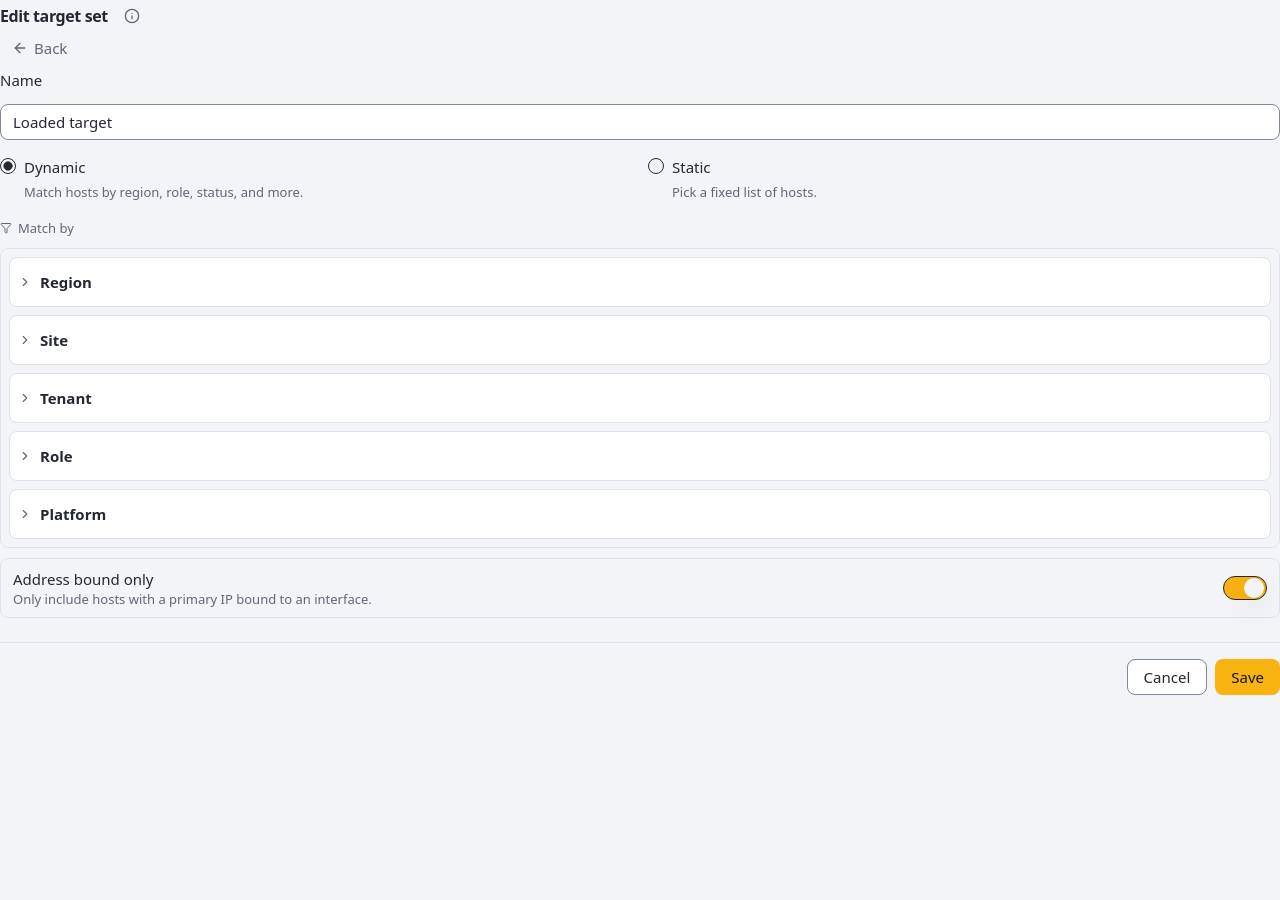
target route state shell › retains the loaded dirty draft and discard guard after a failed background refresh
Replace the text in the field with "Unsaved local draft" at [640, 122], box [0,104,1279,140]
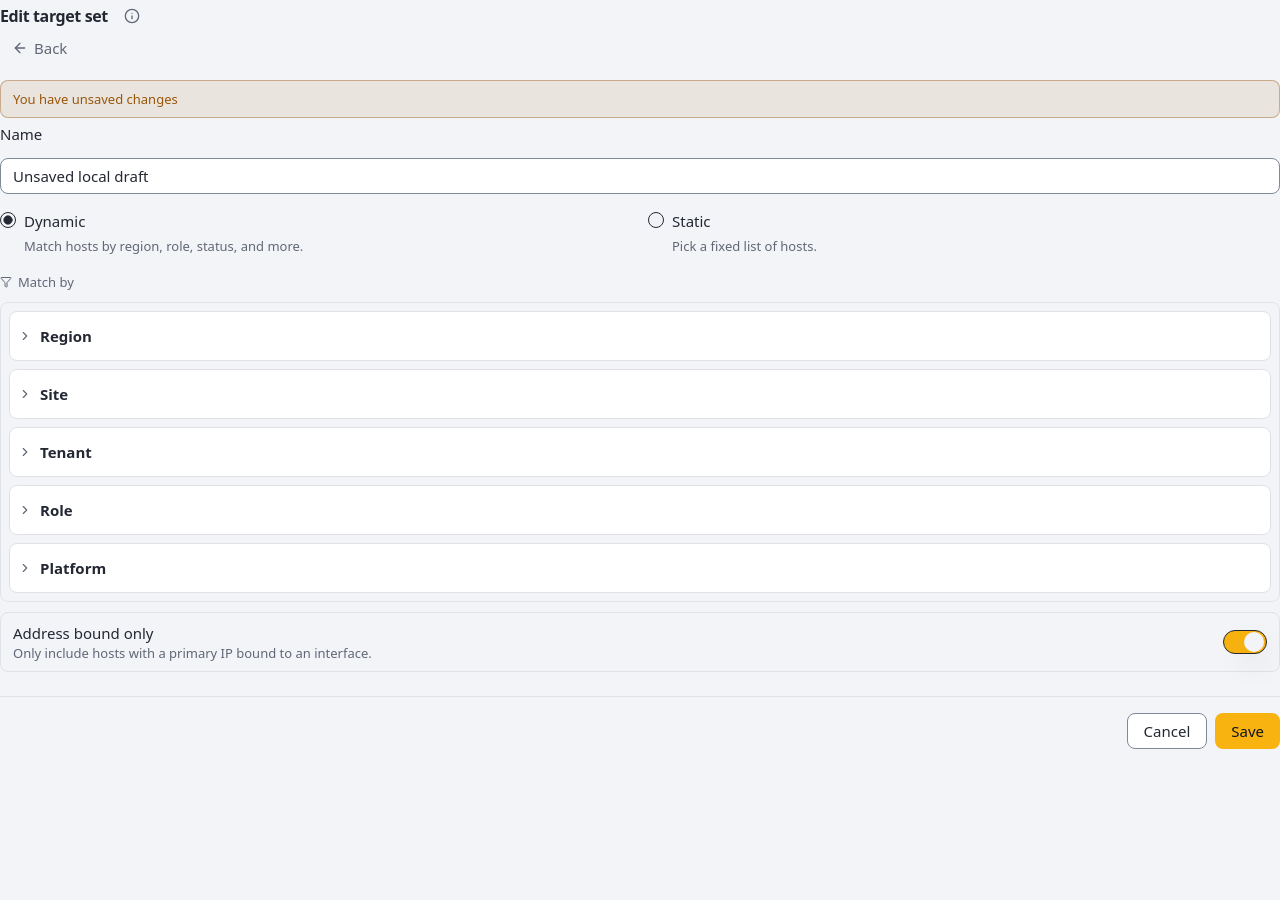
Expected: the number of headings is 1, [0,4,108,28]
Now the text "You have unsaved changes" is shown, box [0,80,1279,118]
Click the button "Back" at [40, 48], box [0,32,79,64]
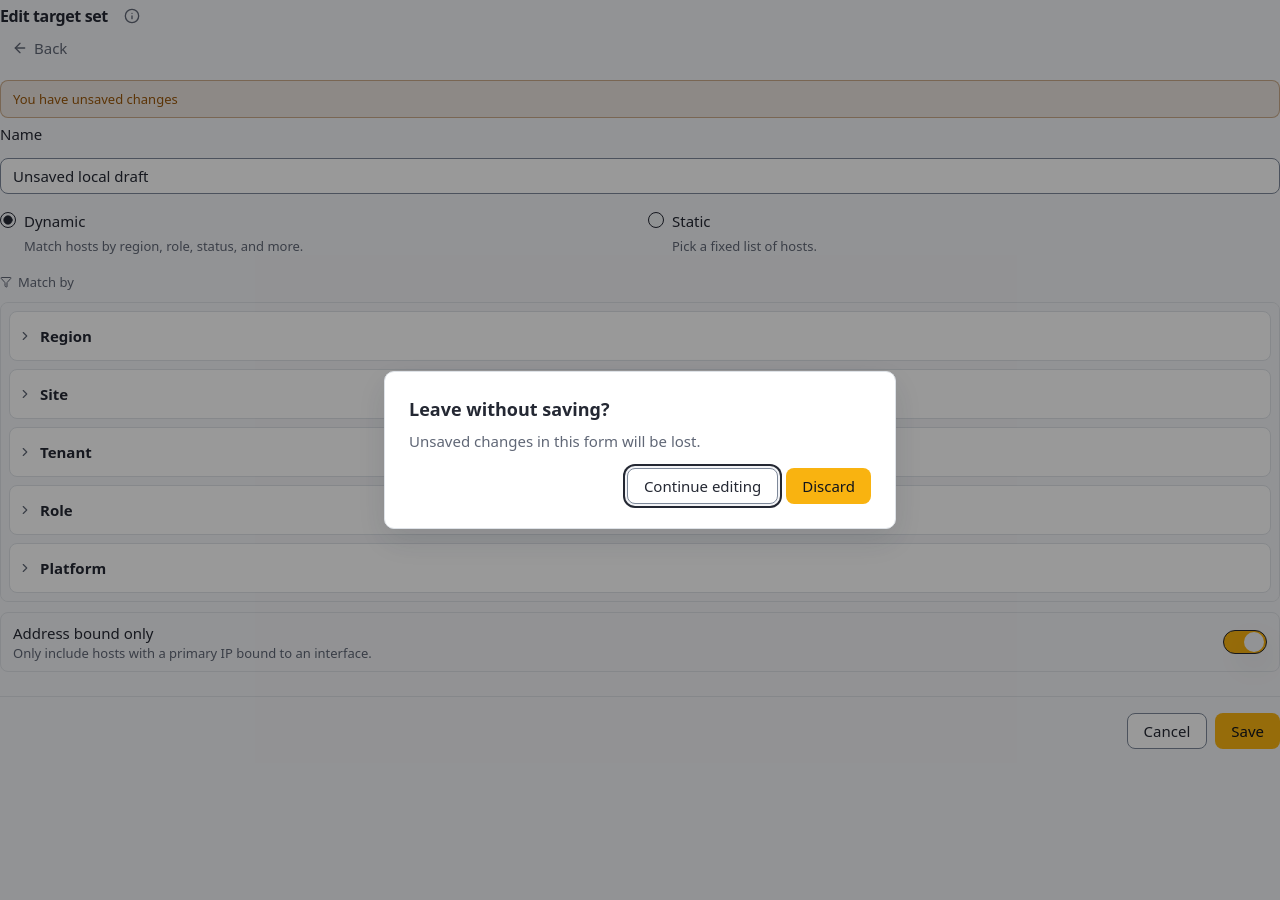
Now the dialog is shown, box [384,371,896,529]
